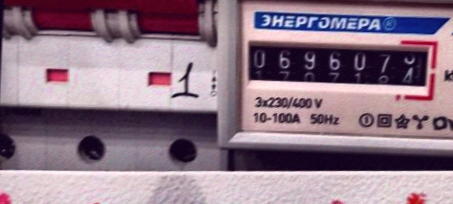0: (352, 50, 368, 73), (252, 48, 266, 70)
4: (401, 65, 415, 87)
6: (277, 48, 292, 70), (327, 51, 341, 71)
7: (376, 53, 392, 75)
9: (302, 50, 315, 71)
screen: (234, 30, 442, 99)
